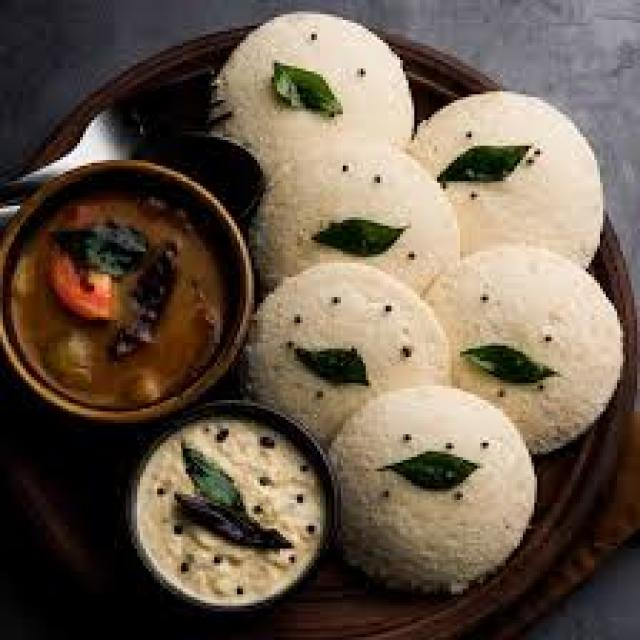IDLI: (434, 252, 634, 461), (328, 388, 538, 587), (245, 255, 452, 451), (243, 145, 470, 296), (416, 89, 609, 264), (207, 10, 411, 165)
